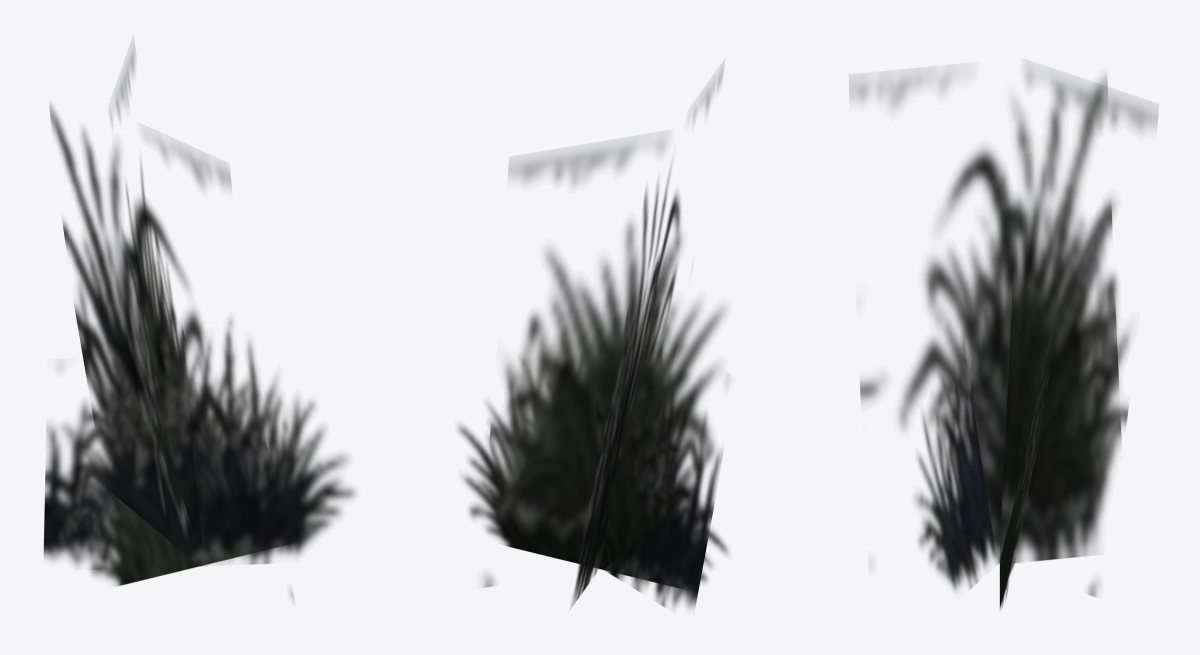
Rendered from bui-co-dai-4.glb.
3 renders of one model, left to right at view 1: azimuth 30°, elevation 25°; view 2: azimuth 150°, elevation 25°; view 3: azimuth 270°, elevation 25°, orthographic.
Visible parts, largest first — view 1: p0; view 2: p0; view 3: p0.
Part boxes in pixels (bbox=[...]): p0: bbox=[43, 42, 356, 599]; p0: bbox=[457, 65, 728, 609]; p0: bbox=[849, 68, 1157, 609].
Size of the model in its own units: 0.5358 by 0.796 by 0.558.
4 materials, 4 textured.
